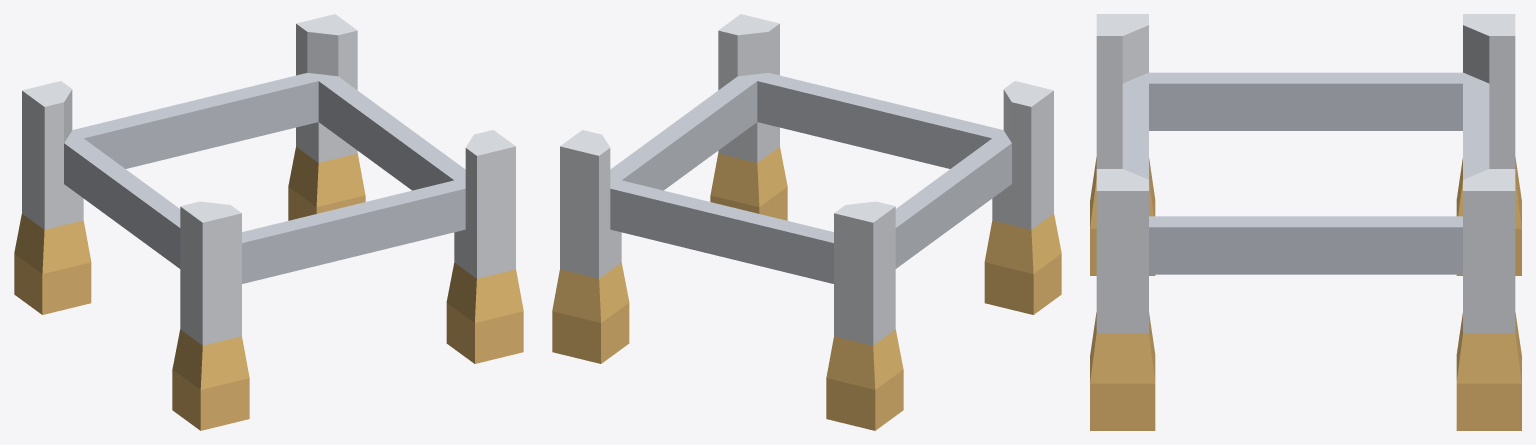
The model's file is supports_low.glb.
The picture shows the model from 3 angles, left to right: view 1: azimuth 30°, elevation 25°; view 2: azimuth 150°, elevation 25°; view 3: azimuth 270°, elevation 25°; orthographic projection. The views are drawn at different scales.
Parts seen in each view (by area): view 1: supports_low; view 2: supports_low; view 3: supports_low.
Boxes of the visible parts, x1,y1,x2,y2 form: supports_low: (14,14,523,430); supports_low: (552,14,1061,430); supports_low: (1090,14,1521,430).
Bounding box in the file's own units: 0.825 × 0.5 × 0.825.
Materials: 1 (1 with a texture image).
